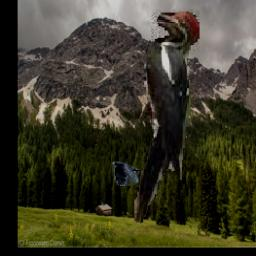Crow: (112, 163, 139, 187)
Woodpecker: (135, 9, 201, 223)
